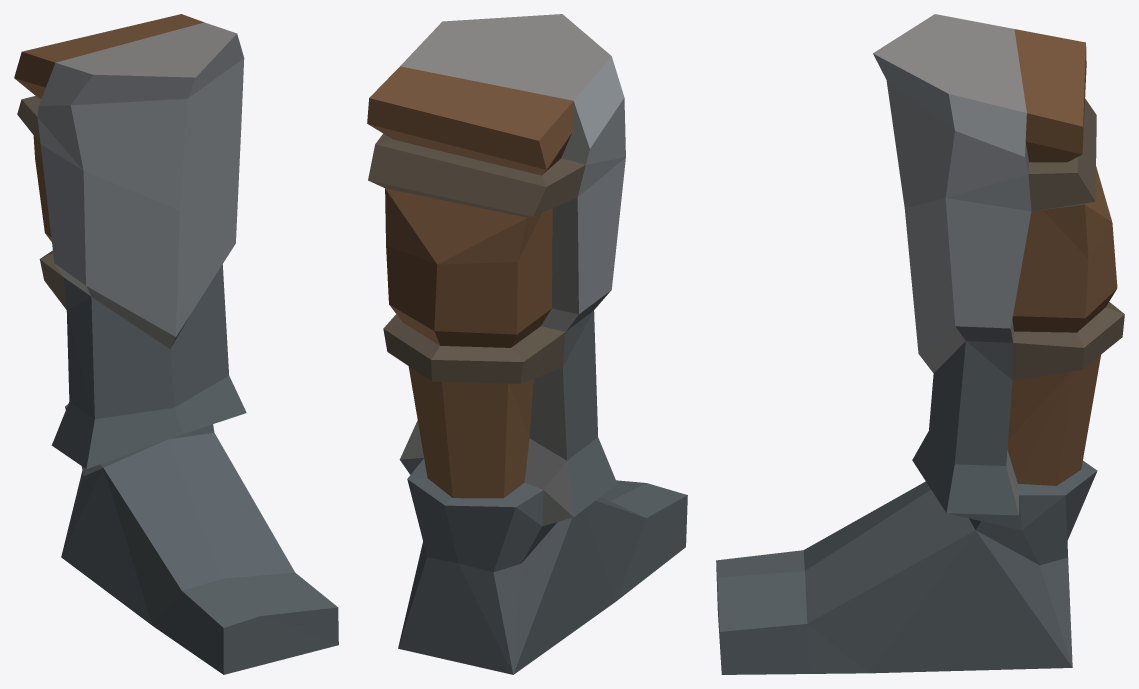
The model's file is Chr_LegRight_Male_01_Static.fbx.
3 views of the same model, side by side, from view 1: azimuth 30°, elevation 25°; view 2: azimuth 150°, elevation 25°; view 3: azimuth 270°, elevation 25° (orthographic). The views are drawn at different scales.
Parts seen in each view (by area): view 1: Chr_LegRight_Male_01_Static; view 2: Chr_LegRight_Male_01_Static; view 3: Chr_LegRight_Male_01_Static.
Part boxes in pixels (box(x1,y1,x2,y2)): Chr_LegRight_Male_01_Static: box(14, 14, 338, 674); Chr_LegRight_Male_01_Static: box(367, 14, 687, 674); Chr_LegRight_Male_01_Static: box(716, 14, 1124, 674).
Bounding box in the file's own units: 0.1406 × 0.4045 × 0.2573.
